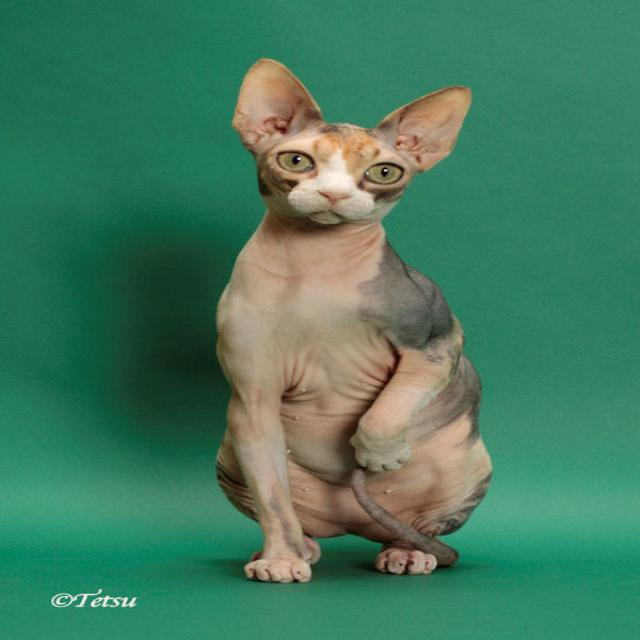Sphynx: (220, 49, 495, 238)
